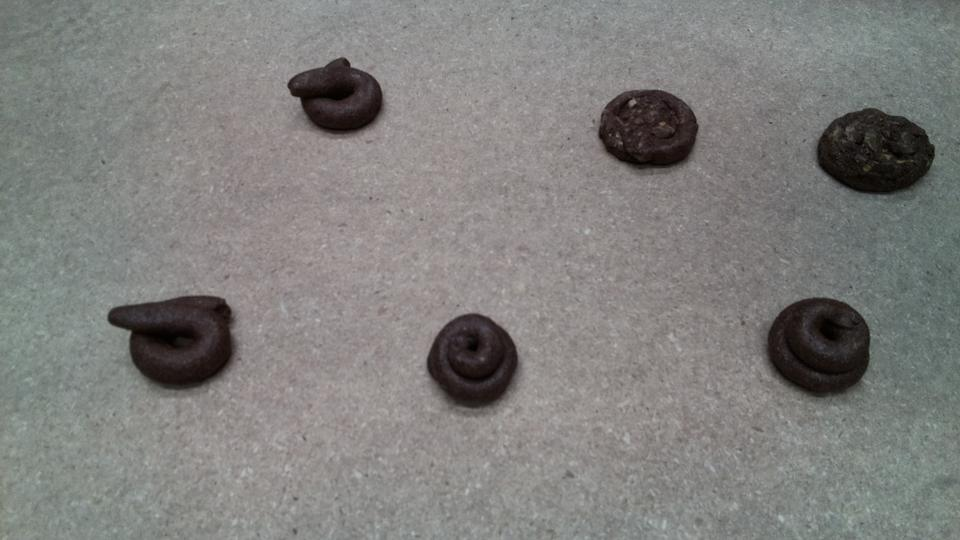poop: (107, 288, 237, 393), (765, 293, 874, 401), (813, 107, 938, 198), (424, 313, 523, 411), (596, 87, 701, 172), (286, 55, 387, 136)
